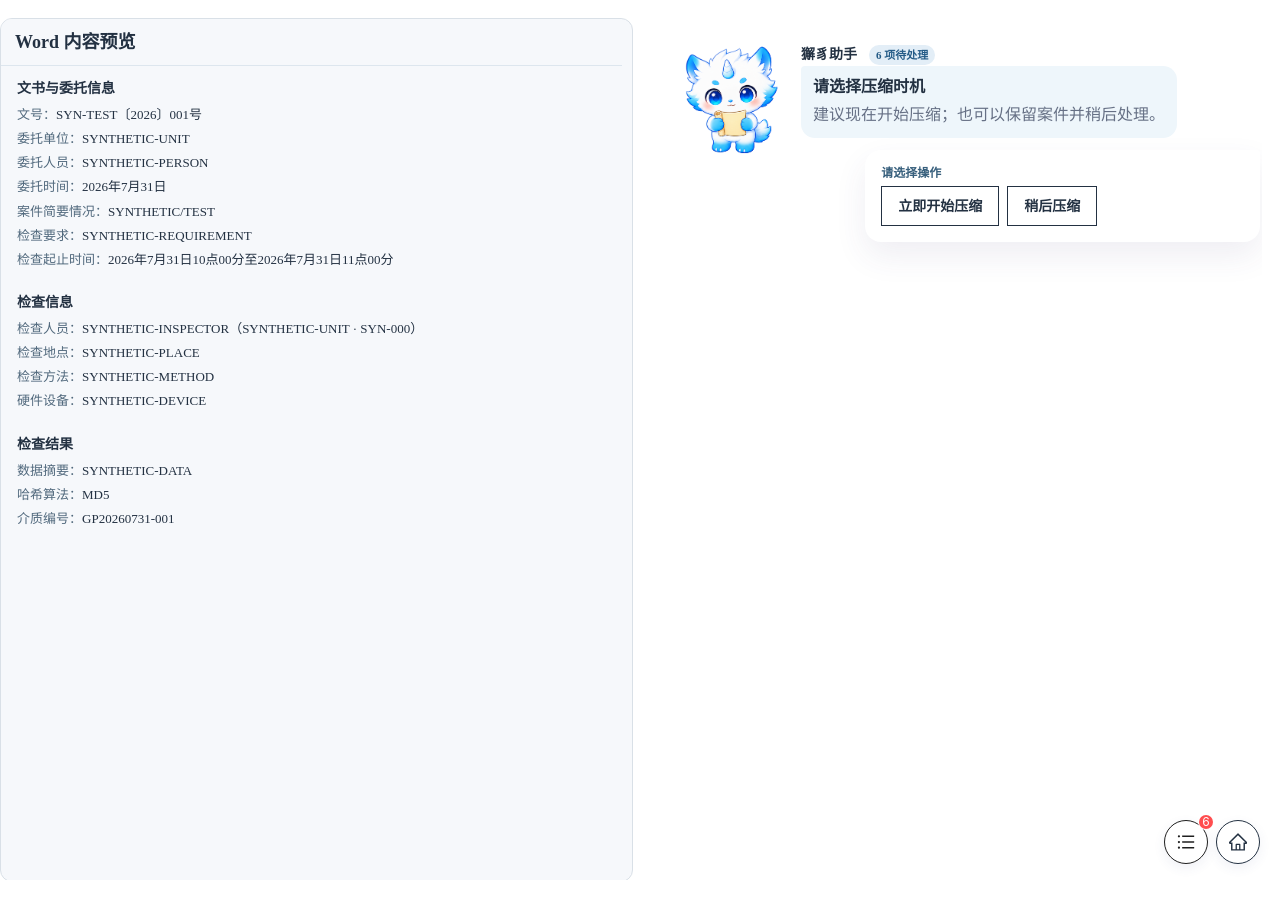
CaseRecordGeneratePage archive decision coordination › restores a confirmed case summary under previously handled after reopening the case
Click the button named "查看已填内容与待办": {"x": 1186, "y": 842} 1164,820 -> 1208,864
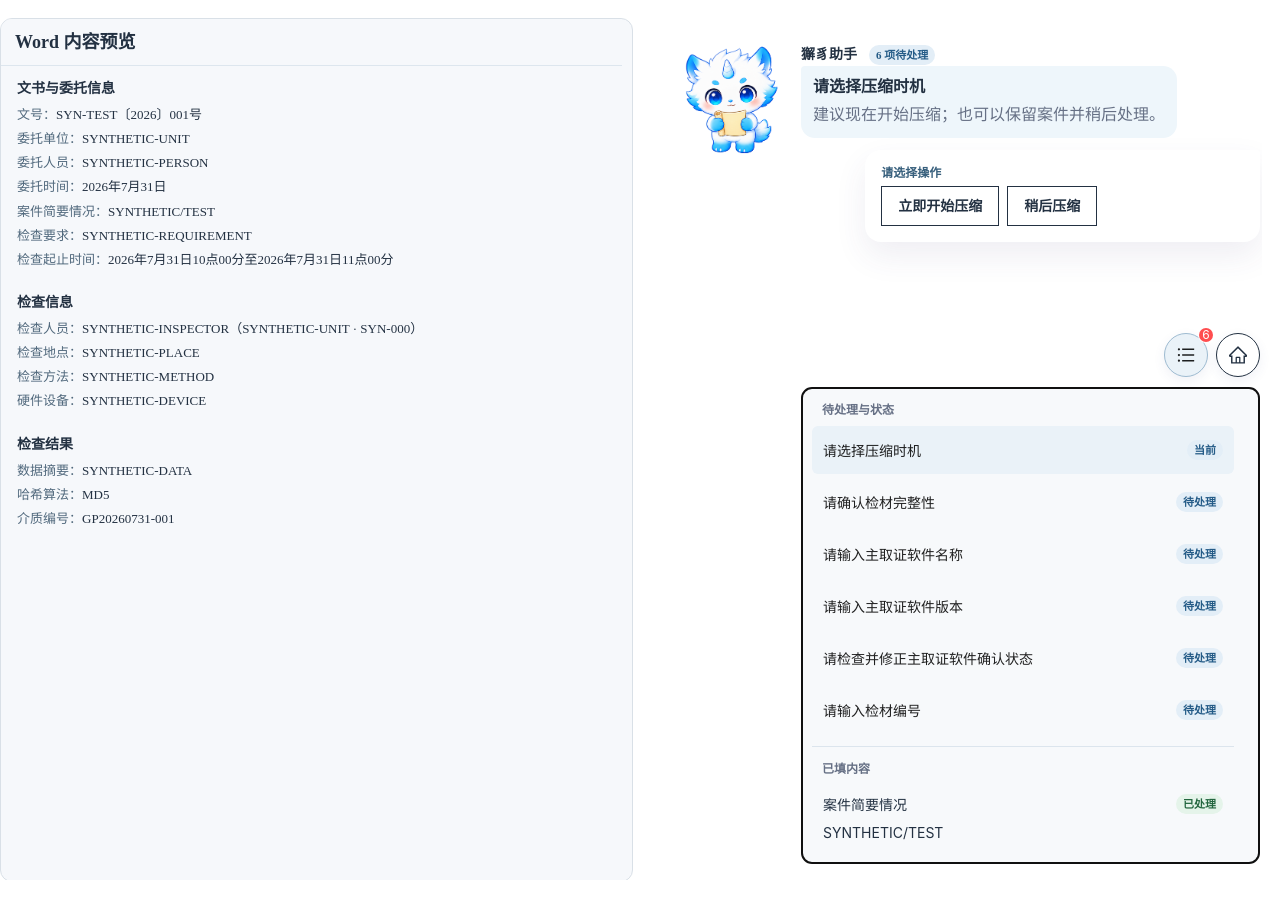
Click the button with aria-label "修改案件简要情况": {"x": 865, "y": 805} 812,785 -> 1234,853
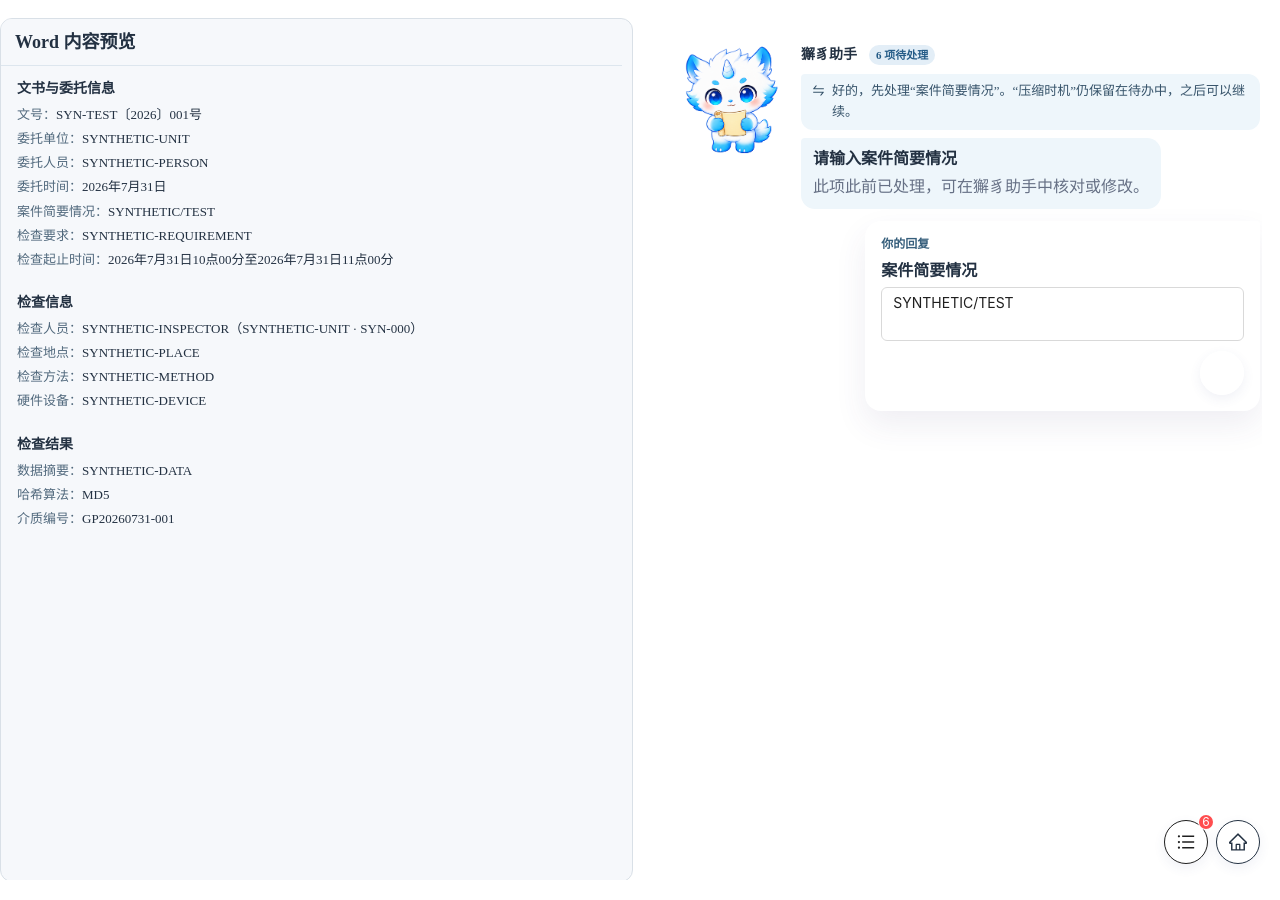
Expected: the message named "獬豸助手提示" shows "请输入案件简要情况", 813,150 -> 957,167
Expected: the text box labelled "案件简要情况" is shown, 881,287 -> 1244,341
